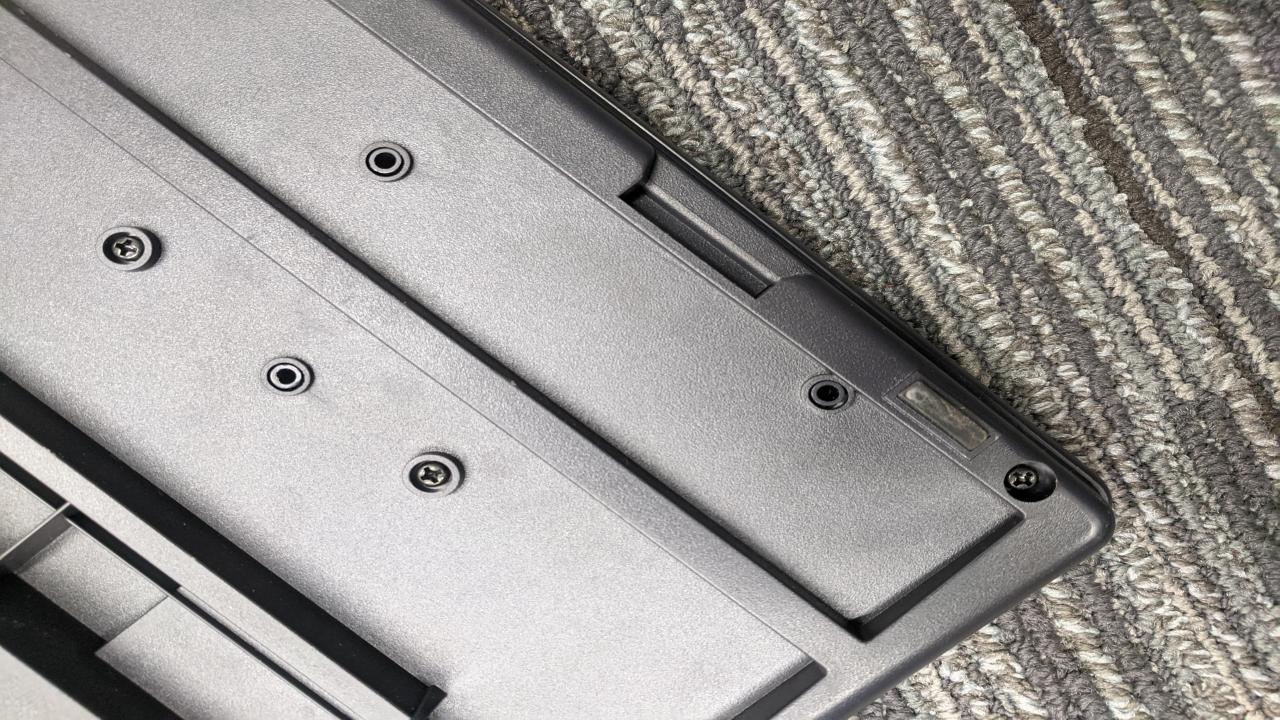CRS: (413, 461, 453, 491), (106, 236, 144, 263), (1008, 465, 1042, 493)
